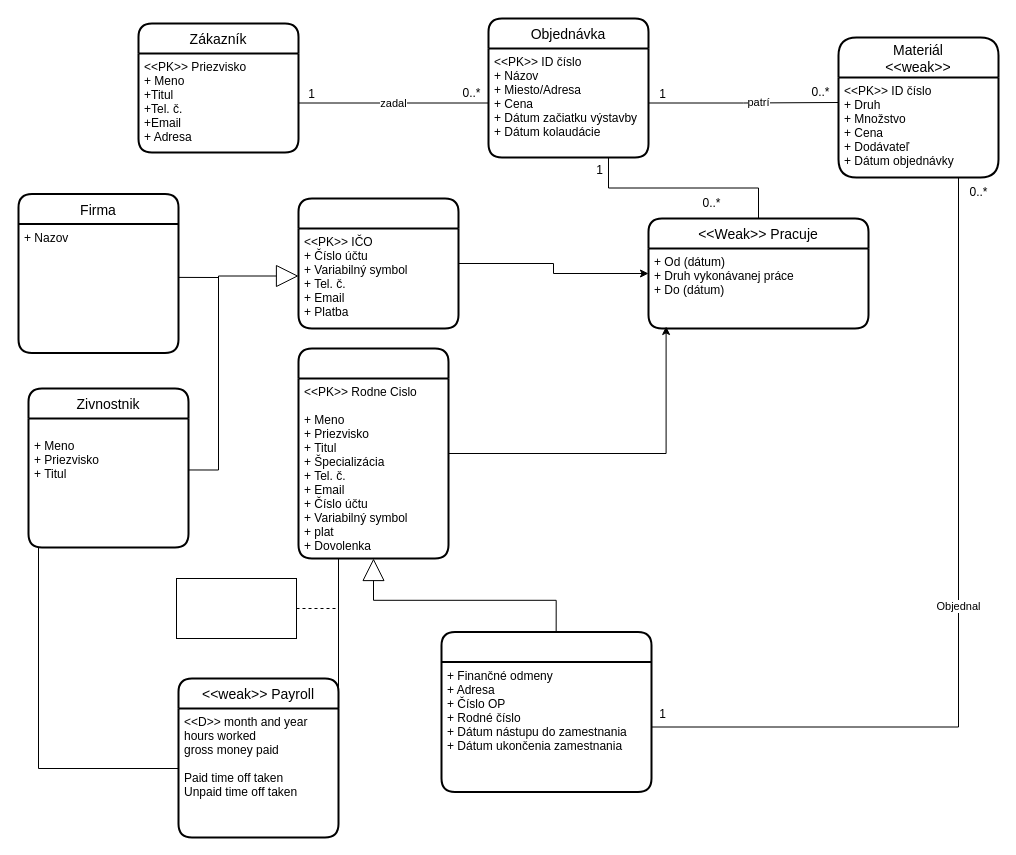
Image size: 1016x855. Some labels were removed from this diagram. Here are the shapes that lost their labels. From the top down, the box of each, then its label:
(297, 197, 459, 329): Extreny
(297, 347, 449, 559): Zamestnanec
(440, 630, 652, 792): Vlastný
